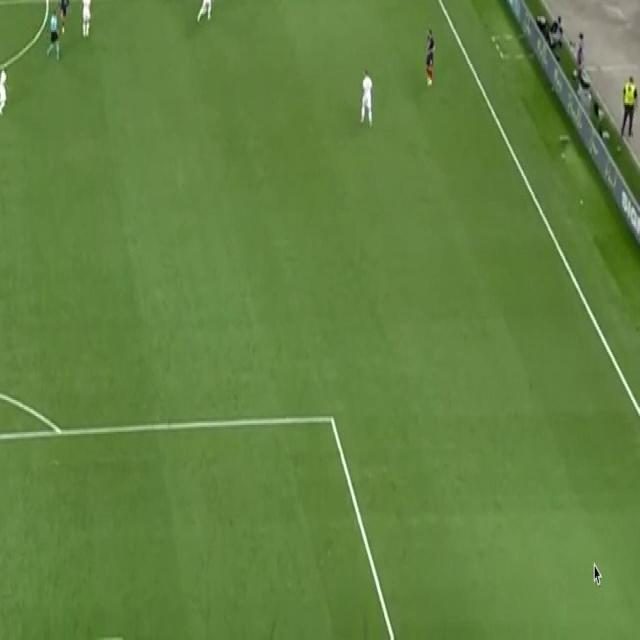player-white: (358, 66, 374, 133), (44, 7, 63, 63), (423, 25, 435, 89), (0, 62, 12, 118), (195, 0, 216, 32), (80, 0, 94, 44), (57, 0, 71, 41)
